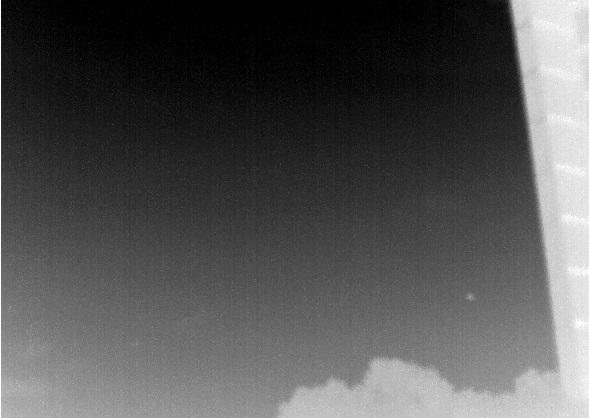dim target: (464, 293, 476, 302)
